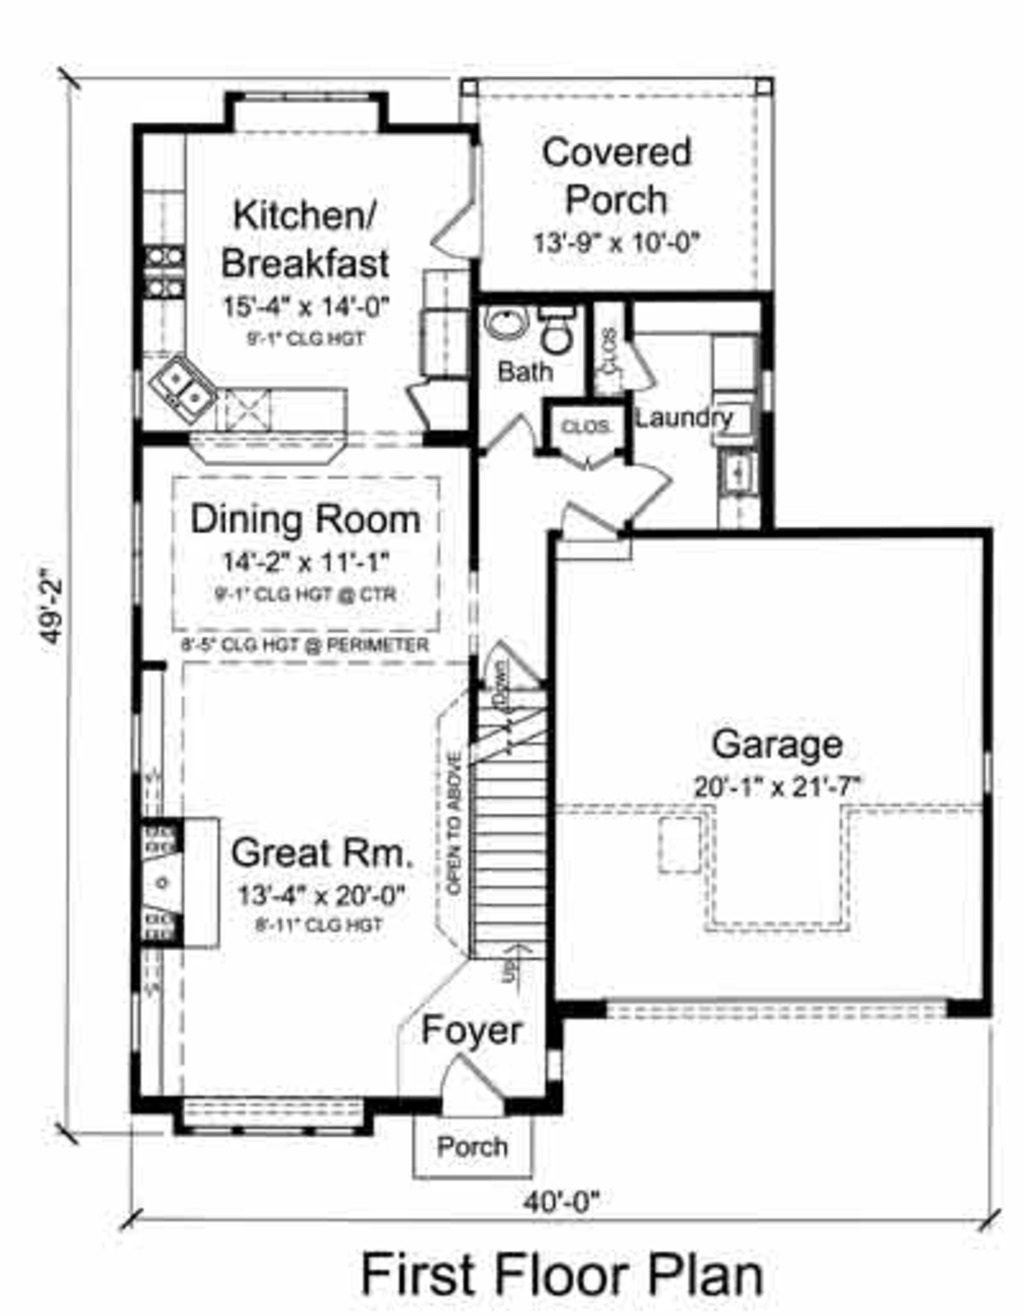door: (434, 1050, 513, 1118), (612, 455, 677, 520), (424, 202, 481, 264), (555, 502, 616, 546), (483, 406, 533, 457)
large_sink: (533, 293, 581, 364)
small_sink: (462, 300, 530, 345)
stairs: (469, 674, 551, 981)
twin_sink: (148, 352, 217, 430)
windows: (227, 77, 367, 105), (188, 1121, 355, 1142), (128, 500, 145, 621), (123, 982, 144, 1057)
